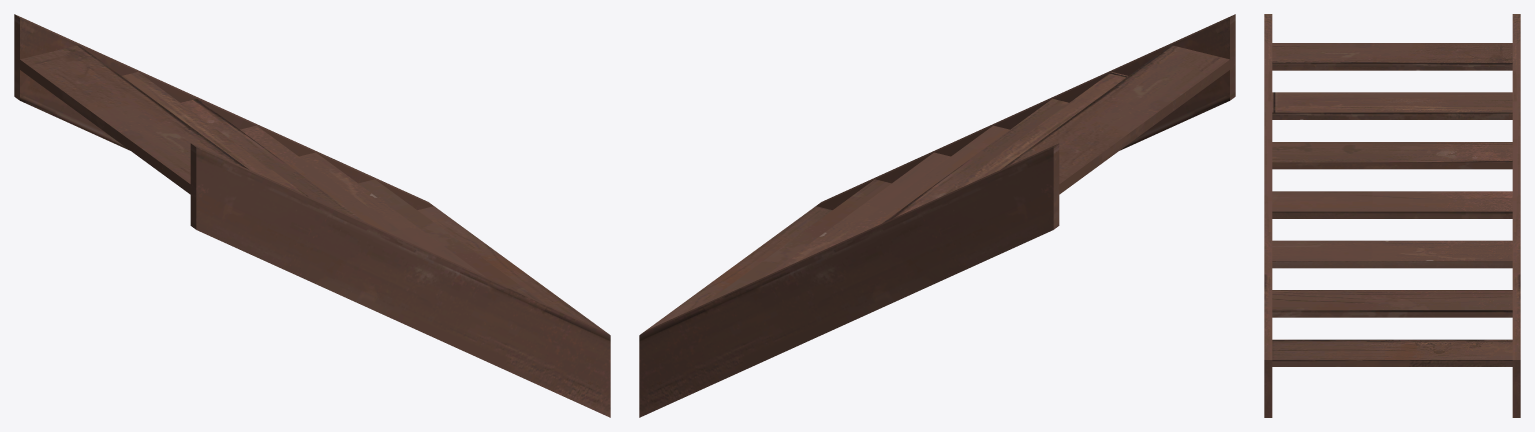
Rendered from stairs_wood001a.glb.
The picture shows the model from 3 angles, left to right: view 1: azimuth 30°, elevation 25°; view 2: azimuth 150°, elevation 25°; view 3: azimuth 270°, elevation 25°; orthographic projection. The views are drawn at different scales.
Visible parts, largest first — view 1: stairs_wood001a; view 2: stairs_wood001a; view 3: stairs_wood001a.
Part boxes in pixels (<box>): stairs_wood001a: <box>14,14,610,417</box>; stairs_wood001a: <box>639,14,1235,417</box>; stairs_wood001a: <box>1264,14,1520,417</box>.
Bounding box in the file's own units: 1.6 × 1.37 × 1.22.
Materials: 1 (1 with a texture image).
